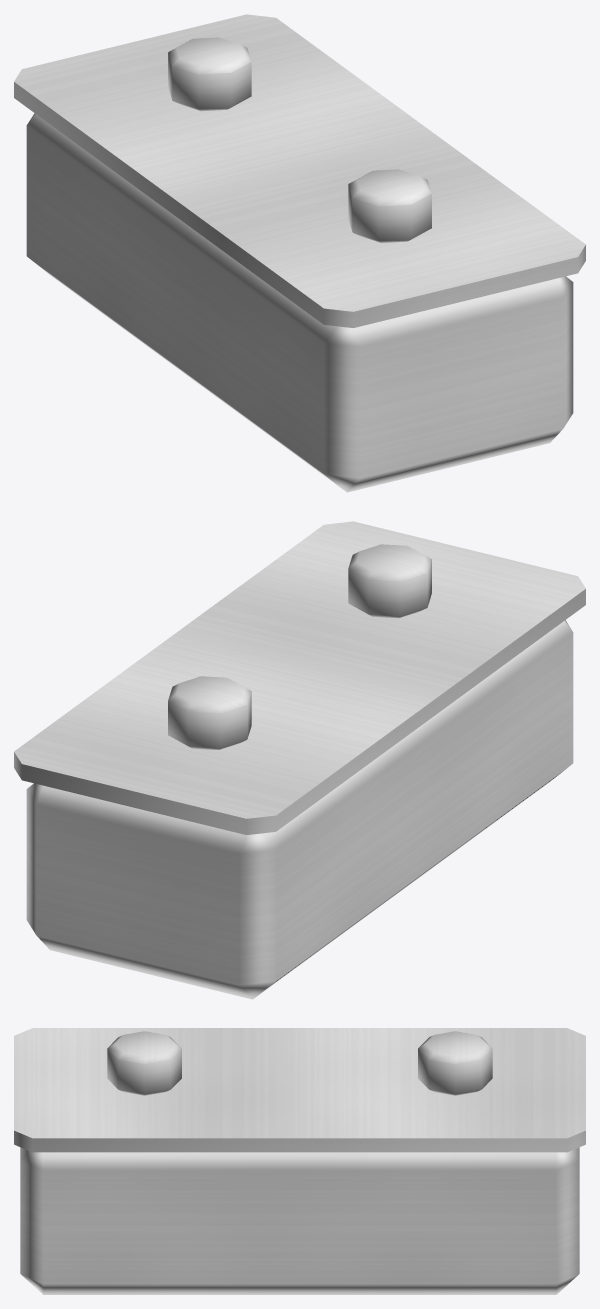
Rendered from battery.obj.
3 renders of one model, top to bottom at view 1: azimuth 30°, elevation 25°; view 2: azimuth 150°, elevation 25°; view 3: azimuth 270°, elevation 25°, orthographic. The views are drawn at different scales.
Visible parts, largest first — view 1: battery_body, battery_lid, negative_terminal, positive_terminal; view 2: battery_body, battery_lid, positive_terminal, negative_terminal; view 3: battery_body, battery_lid, positive_terminal, negative_terminal.
Part boxes in pixels (left/top/right/bottom): battery_body: left=26, top=113, right=573, bottom=492; battery_lid: left=14, top=14, right=585, bottom=327; negative_terminal: left=168, top=37, right=251, bottom=111; positive_terminal: left=348, top=169, right=431, bottom=242; battery_body: left=26, top=620, right=573, bottom=999; battery_lid: left=14, top=521, right=585, bottom=834; positive_terminal: left=348, top=544, right=431, bottom=618; negative_terminal: left=168, top=676, right=251, bottom=749; battery_body: left=20, top=1147, right=579, bottom=1294; battery_lid: left=14, top=1028, right=585, bottom=1152; positive_terminal: left=107, top=1031, right=181, bottom=1095; negative_terminal: left=418, top=1031, right=492, bottom=1095.
Size of the model in its own units: 0.84 by 0.74 by 1.84.
